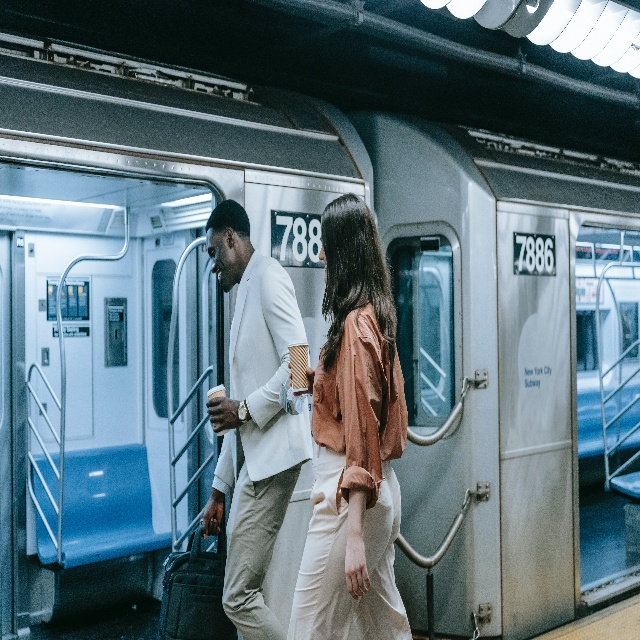Sin_guantes: (344, 534, 371, 602), (205, 395, 244, 432), (199, 495, 225, 539), (287, 362, 316, 397)
